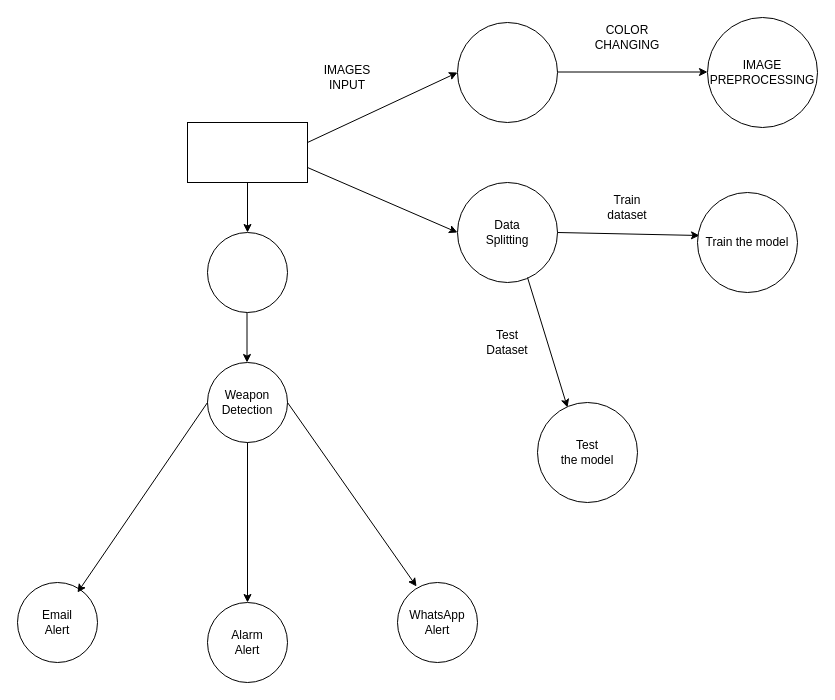
Some shapes in this 835 by 700 pixel diagram are drawn without their labels. The box of each missing label's shape, as (x1, y1, x2, y2) in pixels:
DATA SOURCES: (186, 122, 308, 182)
Face Detection: (206, 232, 288, 312)
RESIZING: (456, 22, 558, 122)
